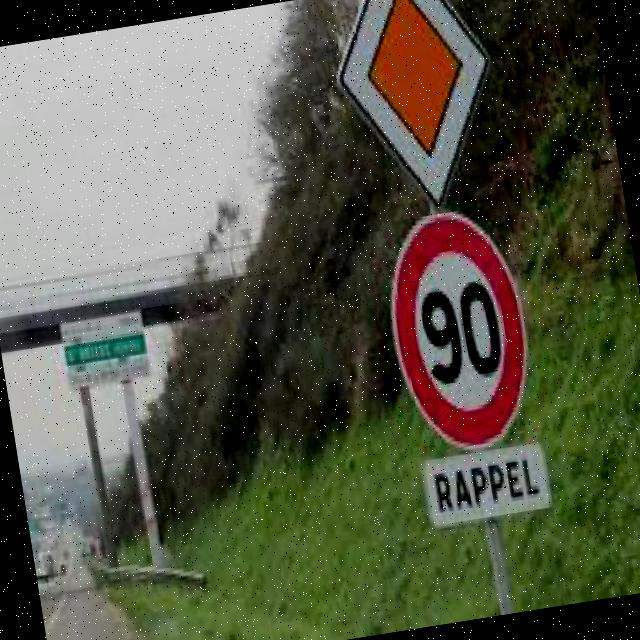Ograniczenie predkosci do 90: (384, 205, 536, 456)
